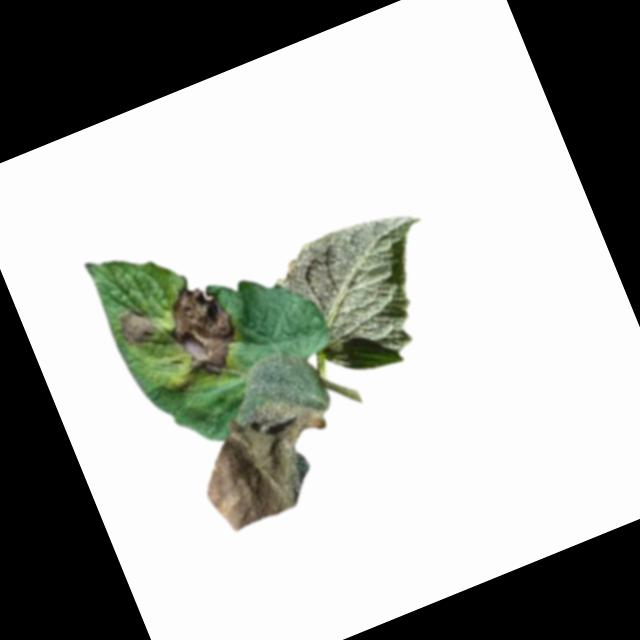Late_blight: (156, 342, 362, 542), (153, 273, 250, 390), (112, 302, 160, 351)
healthy: (261, 198, 469, 398)
